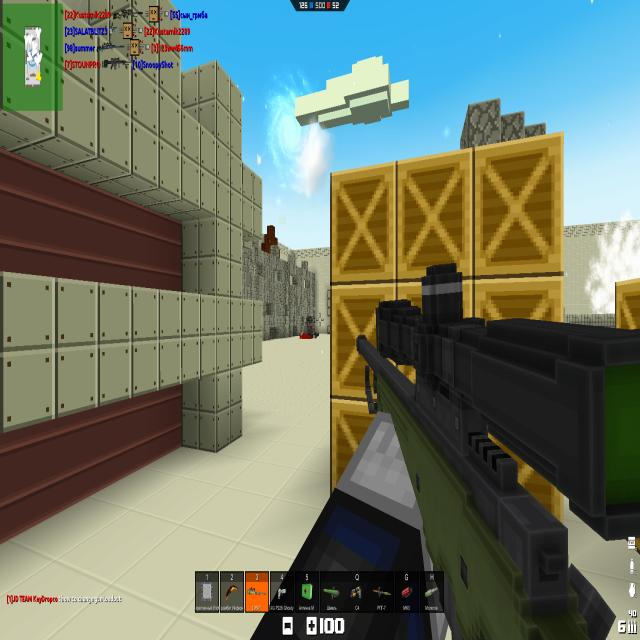player: (306, 316, 314, 335), (300, 333, 312, 339)
